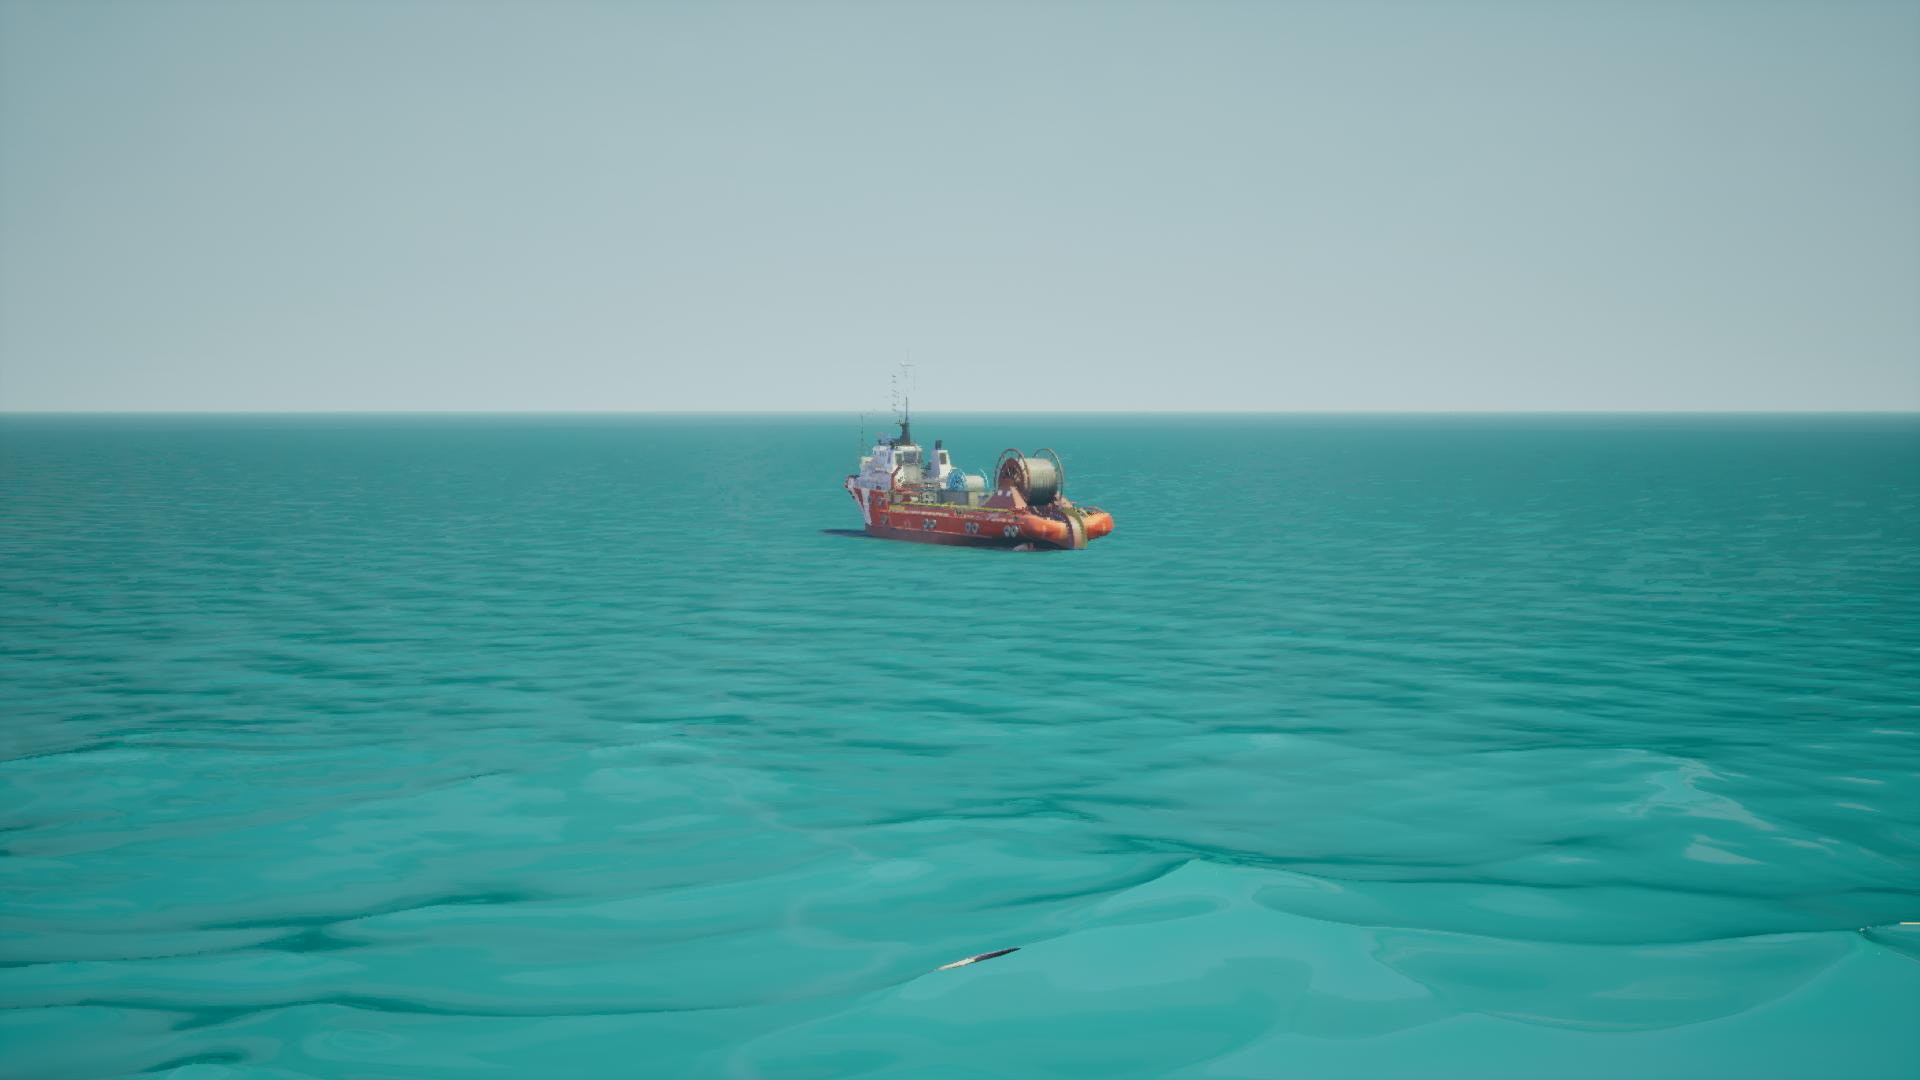Tug Boat: (827, 364, 1108, 556)
